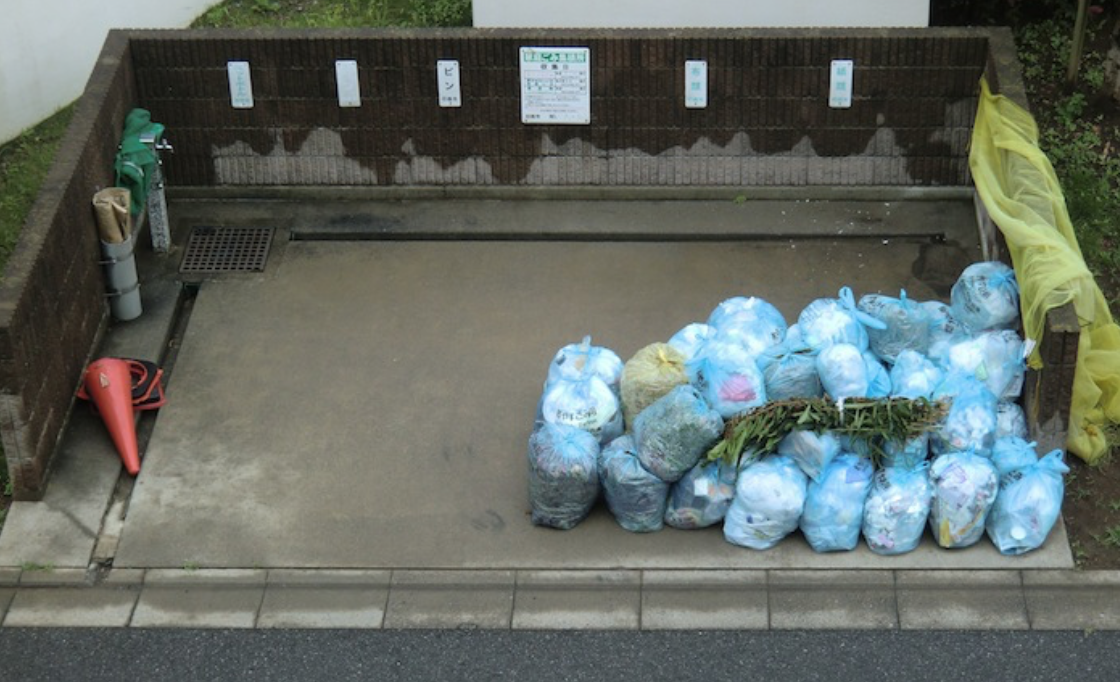plastic bag: (632, 384, 722, 484), (990, 450, 1071, 555), (528, 422, 598, 532), (725, 458, 807, 550), (542, 339, 622, 429), (930, 450, 997, 552), (927, 368, 1003, 453), (602, 438, 667, 534), (802, 459, 863, 559), (948, 329, 1033, 398), (858, 282, 932, 360), (864, 465, 926, 557), (952, 253, 1020, 332), (793, 290, 872, 354), (710, 293, 790, 353), (817, 342, 893, 403), (702, 348, 768, 418), (621, 343, 687, 412), (666, 465, 734, 530), (778, 430, 850, 485), (885, 347, 948, 403), (763, 349, 821, 405)
